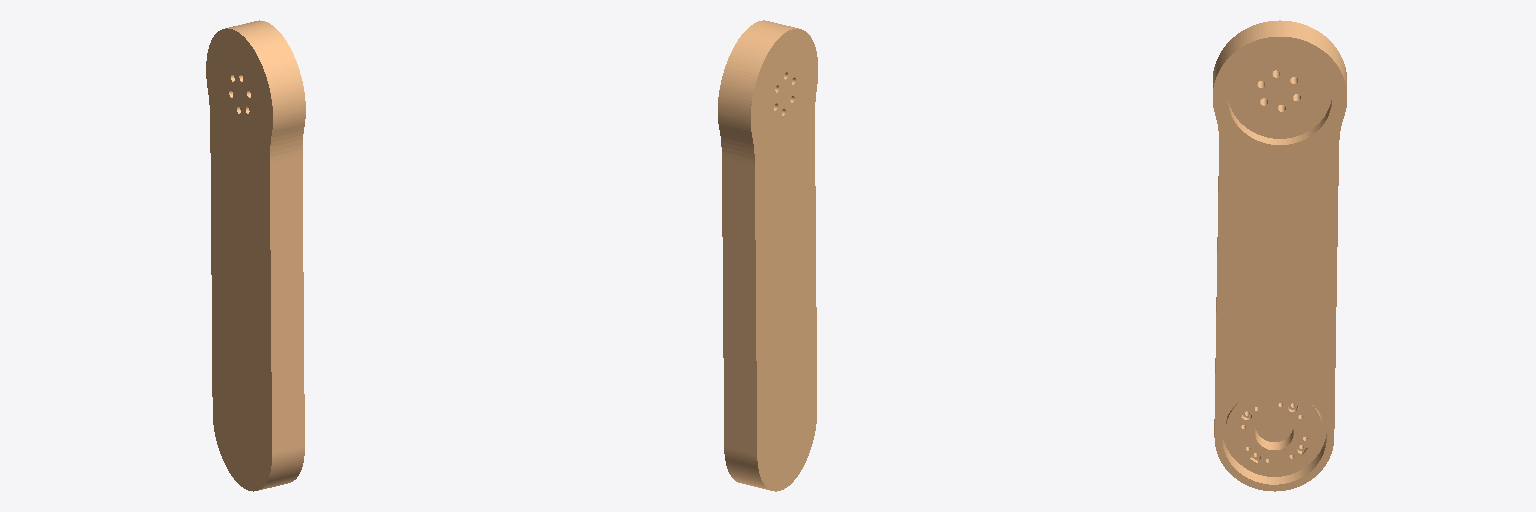
robot.urdf — scara1:
<?xml version="1.0"?>
<robot name="scara1">
    <!-- Base fixa -->
    <link name="base">
        <inertial>
            <origin xyz="0.0724 0.098 0.0614" rpy="0 0 0"/>
            <mass value="0.75"/>
            <inertia ixx="0.003612" ixy="0.0" ixz="0.0"
                     iyy="0.002273" iyz="0.0" izz="0.003612"/>
        </inertial>
        <visual>
            <origin xyz="0 0 0" rpy="0 0 0"/>
            <geometry>
                <mesh filename="Base1.stl" scale="0.001 0.001 0.001"/>
            </geometry>
            <material name="laranja">
                <color rgba="1 0.8 0.6 1"/>
            </material>
        </visual>
        <collision>
            <origin xyz="0 0 0" rpy="0 0 0"/>
            <geometry>
                <mesh filename="Base1.stl" scale="0.001 0.001 0.001"/>
            </geometry>
        </collision>
    </link>
    
    <!-- Primeiro Braço -->
    <link name="braco1">
        <inertial>
            <origin xyz="0.0118 0.1650 0.0455" rpy="-1.38 0 0"/>
            <mass value="0.15"/>
            <inertia ixx="0.001411" ixy="0.0" ixz="0.0"
                     iyy="0.000109" iyz="0.0" izz="0.001411"/>
        </inertial>
        <visual>
            <origin xyz="0 0 0" rpy="-1.38 0 0"/>
            <geometry>
                <mesh filename="Braco1.stl" scale="0.001 0.001 0.001"/>
            </geometry>
            <material name="laranja">
                <color rgba="1 0.8 0.6 1"/>
            </material>
        </visual>
        <collision>
            <origin xyz="0 0 0" rpy="-1.38 0 0"/>
            <geometry>
                <mesh filename="Braco1.stl" scale="0.001 0.001 0.001"/>
            </geometry>
        </collision>
    </link>
    
    <!-- Junta 1 (Rotacional em Z) -->
    <joint name="joint1" type="revolute">
        <parent link="base"/>
        <child  link="braco1"/>
        <origin xyz="0 0 0" rpy="0 0 0"/>
        <axis  xyz="1 0 0"/>
        <limit lower="-0.75" upper="3.9" effort="0.5" velocity="1"/>
    </joint>
    
    <!-- Segundo Braço -->
    <link name="braco2">
        <inertial>
            <origin xyz="0.0724 0.1571 0.0419" rpy="-1.188 0 0"/>
            <mass value="0.9"/>
            <inertia ixx="0.010343" ixy="0.0" ixz="0.0"
                    iyy="0.002734" iyz="0.0" izz="0.010343"/>
        </inertial>
        <visual>
            <origin xyz="0 0 0" rpy="-1.188 0 0"/>
            <geometry>
                <mesh filename="BBraco2.stl" scale="0.001 0.001 0.001"/>
            </geometry>
            <material name="laranja">
                <color rgba="1 0.8 0.6 1"/>
            </material>
        </visual>
        <collision>
            <origin xyz="0 0 0" rpy="-1.188 0 0"/>
            <geometry>
                <mesh filename="BBraco2.stl" scale="0.001 0.001 0.001"/>
            </geometry>
        </collision>
    </link>
    
    <!-- Junta 2 (Rotacional em Z) -->
    <joint name="joint2" type="revolute">
        <parent link="braco1"/>
        <child  link="braco2"/>
        <origin xyz="0 0 -0.25" rpy="0 0 0"/>
        <axis  xyz="1 0 0"/>
        <limit lower="-2.9" upper="2.9" effort="0.5" velocity="1"/>
    </joint>
    
    <!-- Prisma (Atuador Linear) -->
    <link name="prisma">
        <inertial>
            <origin xyz="0 0 0" rpy="0 0 0"/>
            <mass value="0.02"/>
            <inertia ixx="0.000351" ixy="0.0" ixz="0.0"
                     iyy="0.000351" iyz="0.0" izz="0.000351"/>
        </inertial>
        <visual>
            <origin xyz="0 0 0" rpy="0 0 0"/>
            <geometry>
                <mesh filename="Bprisma2.stl" scale="0.001 0.001 0.001"/>
            </geometry>
            <material name="laranja">
                <color rgba="1 0.8 0.6 1"/>
            </material>
        </visual>
        <collision>
            <origin xyz="0 0 0" rpy="0 0 0"/>
            <geometry>
                <mesh filename="Bprisma2.stl" scale="0.001 0.001 0.001"/>
            </geometry>
        </collision>
    </link>
    
    <!-- Junta 3 (Prismática) -->
    <joint name="joint3" type="prismatic">
        <parent link="braco2"/>
        <child  link="prisma"/>
        <origin xyz="0.1 -0.004 -0.256" rpy="0 0 0"/>
        <axis  xyz="1 0 0"/>
        <limit lower="-0.150" upper="1.0" effort="5" velocity="1"/>
    </joint>
</robot>

--- What the picture shows (computed from the rendered views, not written in the file) ---
The picture shows the robot from 3 angles, left to right: view 1: azimuth 30°, elevation 25°; view 2: azimuth 150°, elevation 25°; view 3: azimuth 270°, elevation 25°; orthographic projection.
Robot: scara1 — 4 links, 3 joints (2 revolute, 1 prismatic); root link base; default pose: every joint at zero.
Visible links, largest first — view 1: braco1; view 2: braco1; view 3: braco1.
Link boxes in pixels (box(x1,y1,x2,y2)): braco1: box(206, 20, 305, 491); braco1: box(718, 20, 817, 491); braco1: box(1213, 20, 1346, 491).
Size in the robot's own frame: 0.0254 by 0.09 by 0.335 metres.
Meshes: 4 distinct files referenced, 1 mesh visuals loaded (1 binary STL); not drawn: 3 (reference not matched to a file when rendering).